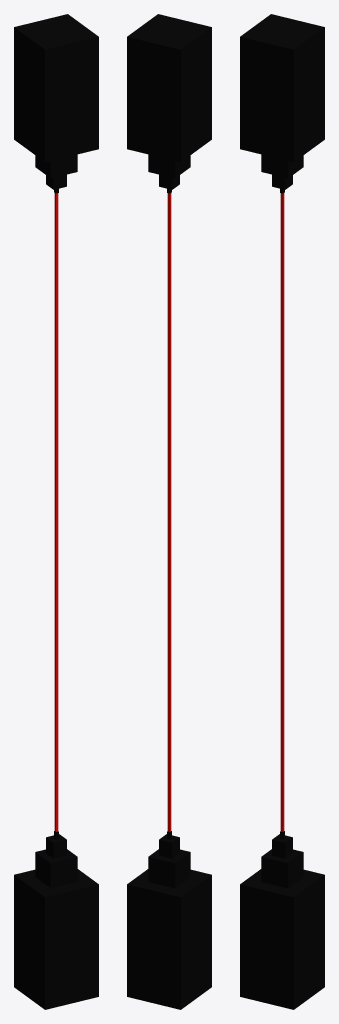
Rendered from laser.fbx.
The picture shows the model from 3 angles, left to right: view 1: azimuth 30°, elevation 25°; view 2: azimuth 150°, elevation 25°; view 3: azimuth 330°, elevation 25°; orthographic projection.
Parts seen in each view (by area): view 1: HOLDER SA TAAS, HOLDER SA BABA, LASER; view 2: HOLDER SA TAAS, HOLDER SA BABA, LASER; view 3: HOLDER SA TAAS, HOLDER SA BABA, LASER.
Part boxes in pixels (box(x1,y1,x2,y2)): HOLDER SA TAAS: box(14, 14, 98, 193); HOLDER SA BABA: box(14, 831, 98, 1009); LASER: box(54, 193, 58, 831); HOLDER SA TAAS: box(127, 14, 211, 193); HOLDER SA BABA: box(127, 831, 211, 1009); LASER: box(167, 193, 171, 831); HOLDER SA TAAS: box(240, 14, 324, 193); HOLDER SA BABA: box(240, 831, 324, 1009); LASER: box(280, 193, 284, 831).
Bounding box in the file's own units: 100 × 1706 × 100.
